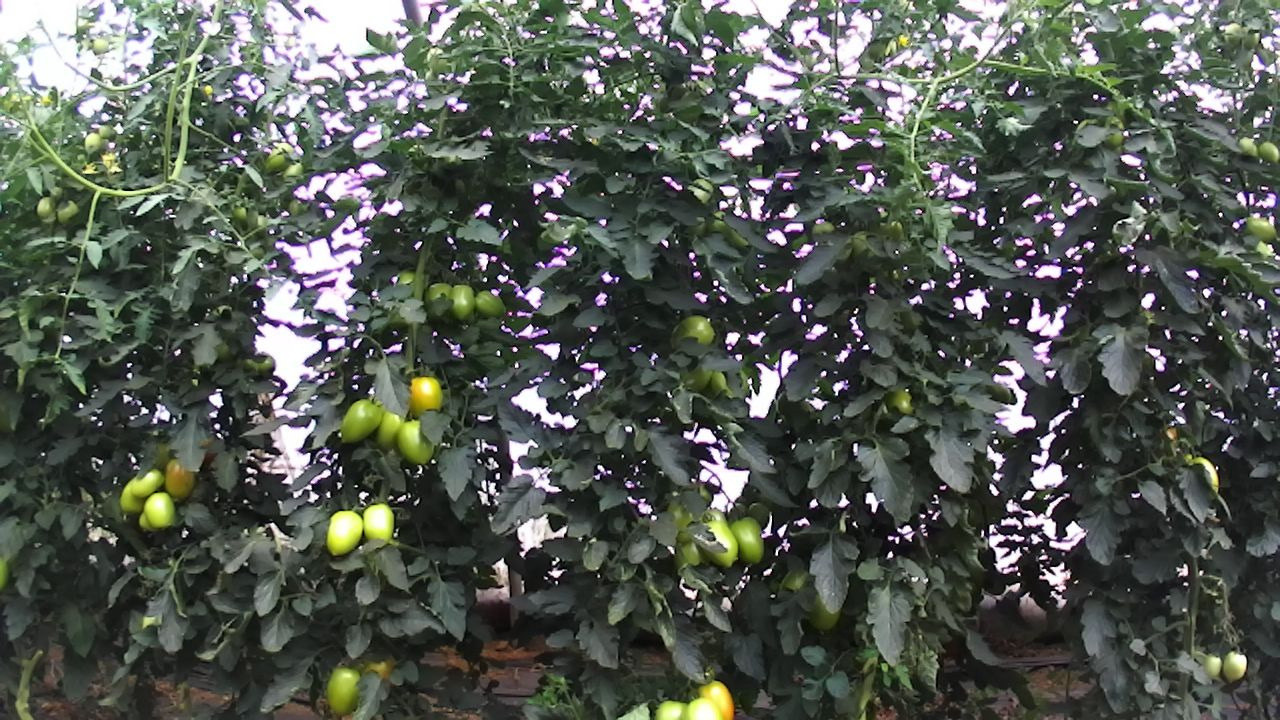tomato: (696, 513, 743, 571), (725, 513, 766, 567), (321, 507, 365, 557), (338, 396, 383, 444), (802, 586, 845, 635), (695, 674, 739, 720), (394, 417, 435, 466), (324, 666, 363, 716), (669, 312, 718, 349), (407, 372, 446, 417), (140, 490, 177, 530), (361, 502, 396, 544), (162, 457, 196, 500), (445, 281, 477, 321), (130, 466, 165, 498), (473, 288, 508, 319), (651, 694, 692, 720), (682, 695, 724, 720), (1221, 648, 1248, 684), (1244, 214, 1278, 242), (1201, 651, 1223, 679), (35, 194, 57, 221), (1256, 140, 1280, 163)
